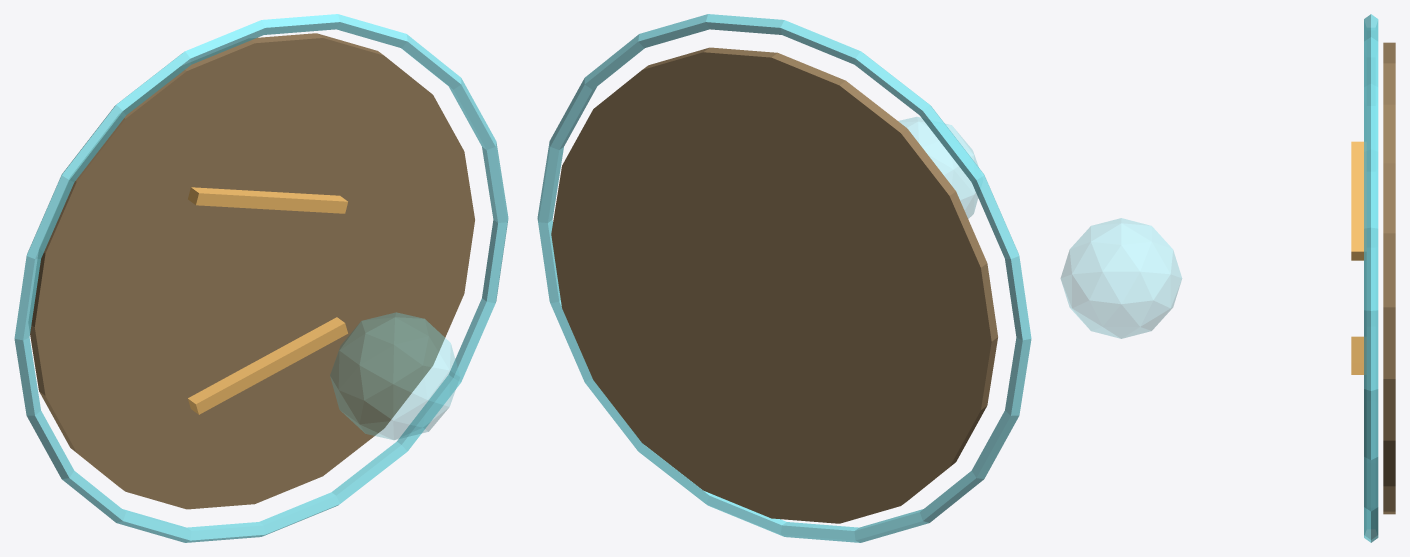
Rendered from 07_weather_terrain_nature_effect.glb.
The picture shows the model from 3 angles, left to right: view 1: azimuth 30°, elevation 25°; view 2: azimuth 150°, elevation 25°; view 3: azimuth 270°, elevation 25°; orthographic projection. The views are drawn at different scales.
Parts seen in each view (by area): view 1: terrain_patch, weather_boundary, weather_orb, terrain_marker_a, terrain_marker_b; view 2: terrain_patch, weather_boundary, weather_orb; view 3: weather_orb, weather_boundary, terrain_patch, terrain_marker_b, terrain_marker_a.
Part boxes in pixels (x1,y1,x2,y2): terrain_patch: (29, 33, 474, 509); weather_boundary: (14, 14, 508, 542); weather_orb: (330, 312, 459, 439); terrain_marker_a: (188, 317, 347, 414); terrain_marker_b: (188, 187, 347, 213); terrain_patch: (551, 47, 997, 523); weather_boundary: (537, 14, 1031, 542); weather_orb: (898, 117, 978, 218); weather_orb: (1060, 218, 1181, 338); weather_boundary: (1364, 14, 1378, 542); terrain_patch: (1383, 42, 1395, 514); terrain_marker_b: (1351, 141, 1365, 260); terrain_marker_a: (1351, 336, 1365, 374).
Size of the model in its own units: 1.75 by 1.75 by 1.1.
